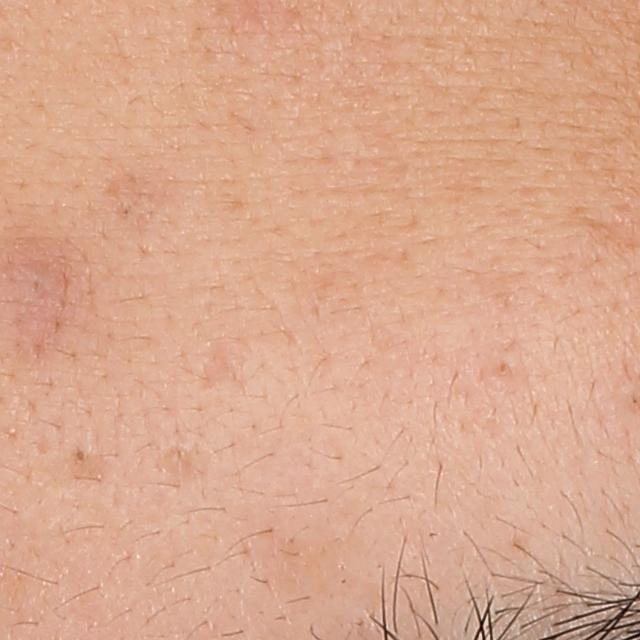atrophic_scar: (200, 335, 243, 394)
comedo: (63, 436, 98, 471), (494, 360, 512, 380)
